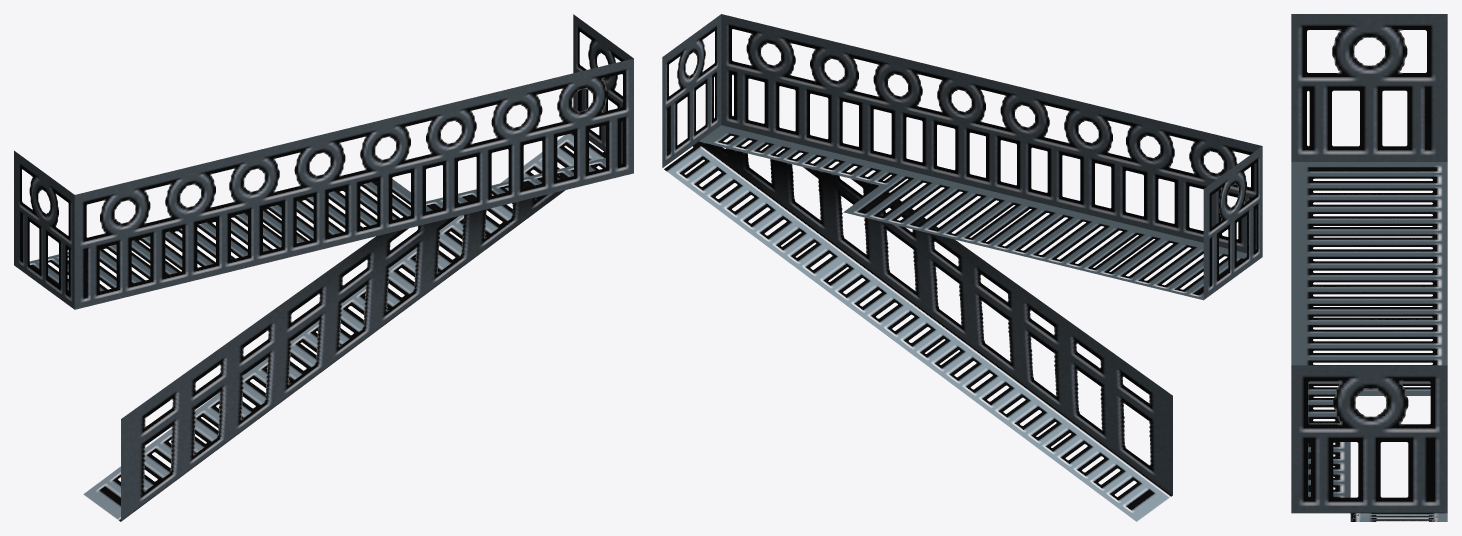
File: railing_04.FBX
3 views of the same model, side by side, from view 1: azimuth 30°, elevation 25°; view 2: azimuth 150°, elevation 25°; view 3: azimuth 270°, elevation 25° (orthographic). The views are drawn at different scales.
Parts seen in each view (by area): view 1: railing_04; view 2: railing_04; view 3: railing_04.
Part boxes in pixels (bbox=[...]): railing_04: bbox=[14, 14, 633, 521]; railing_04: bbox=[662, 14, 1262, 521]; railing_04: bbox=[1291, 14, 1447, 521].
Bounding box in the file's own units: 495 × 305 × 93.32.
